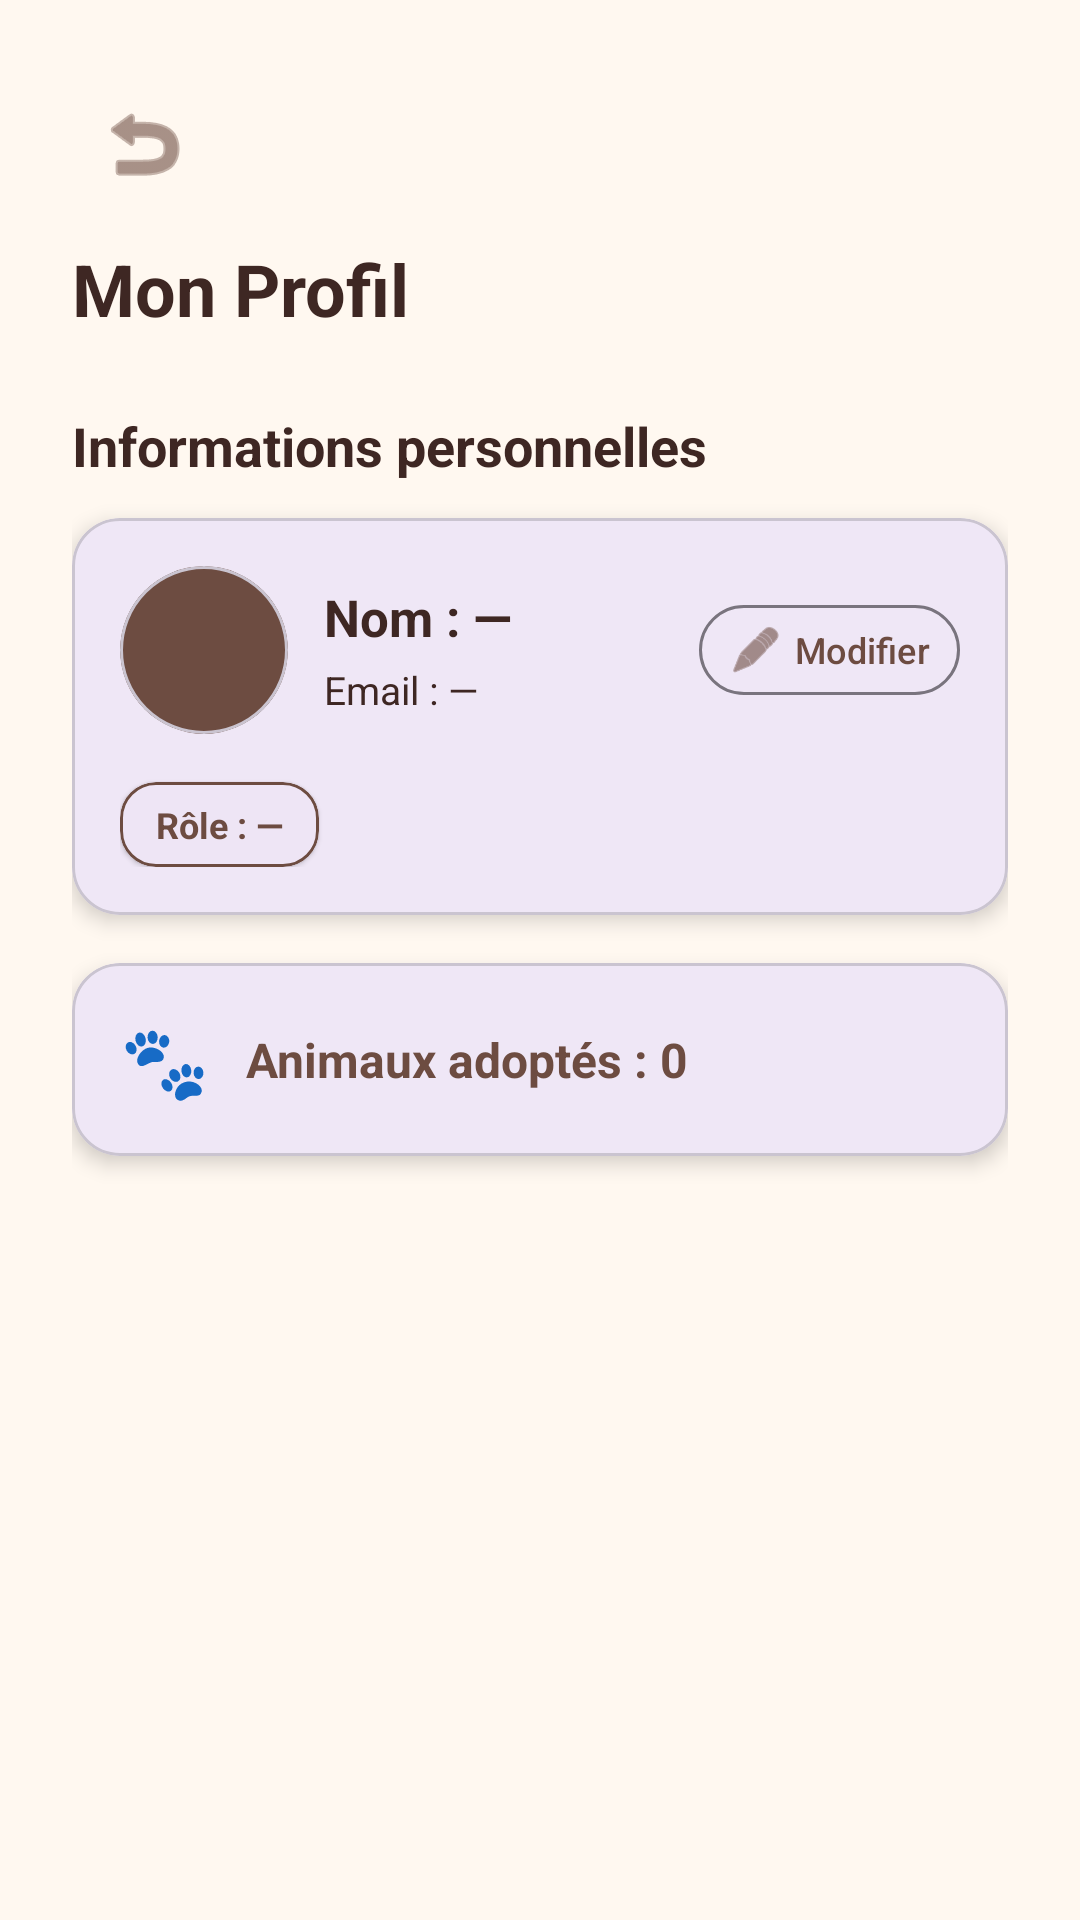

Icon bounding boxes for this 1080px x 1920px phone screenshot, format [left=x1, top=y1, right=x2, bottom=y2]:
Retour: [left=111, top=113, right=180, bottom=176]
